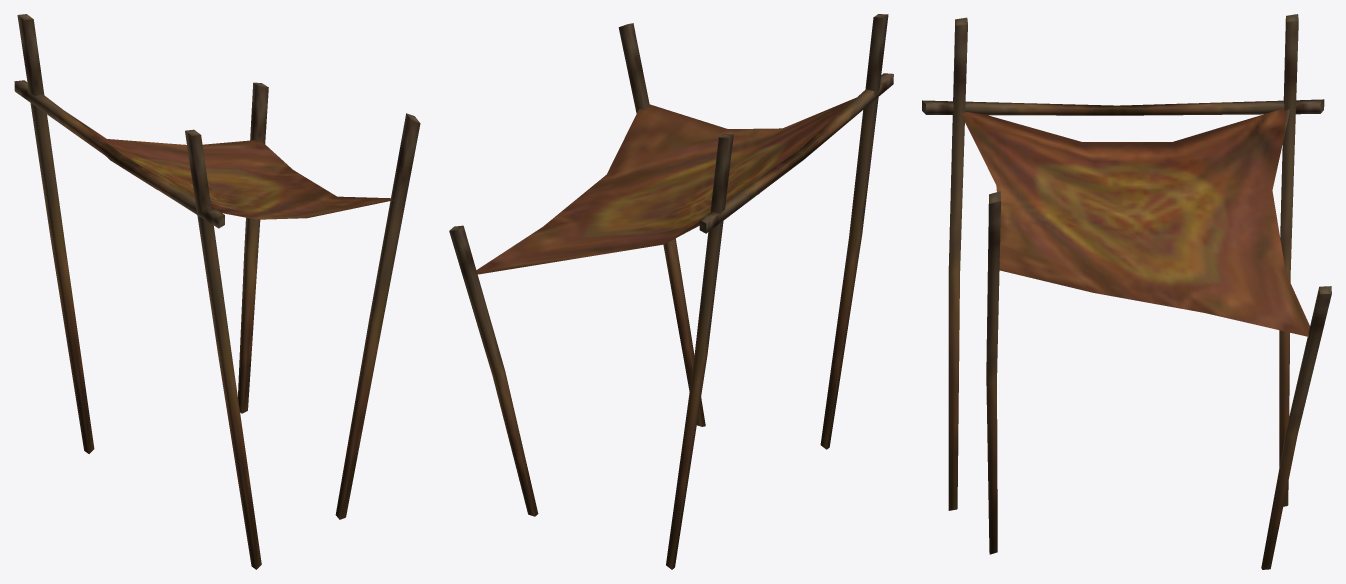
Rendered from ZW_hyhzzwxpzjh.FBX.
3 renders of one model, left to right at view 1: azimuth 30°, elevation 25°; view 2: azimuth 150°, elevation 25°; view 3: azimuth 270°, elevation 25°, orthographic. The views are drawn at different scales.
Parts seen in each view (by area): view 1: ZW_hyhzzwxpzjh; view 2: ZW_hyhzzwxpzjh; view 3: ZW_hyhzzwxpzjh.
Boxes of the visible parts, left/top/right/bottom form: ZW_hyhzzwxpzjh: left=14, top=14, right=420, bottom=569; ZW_hyhzzwxpzjh: left=449, top=14, right=893, bottom=569; ZW_hyhzzwxpzjh: left=922, top=14, right=1331, bottom=569.
Bounding box in the file's own units: 425 × 695 × 559.
